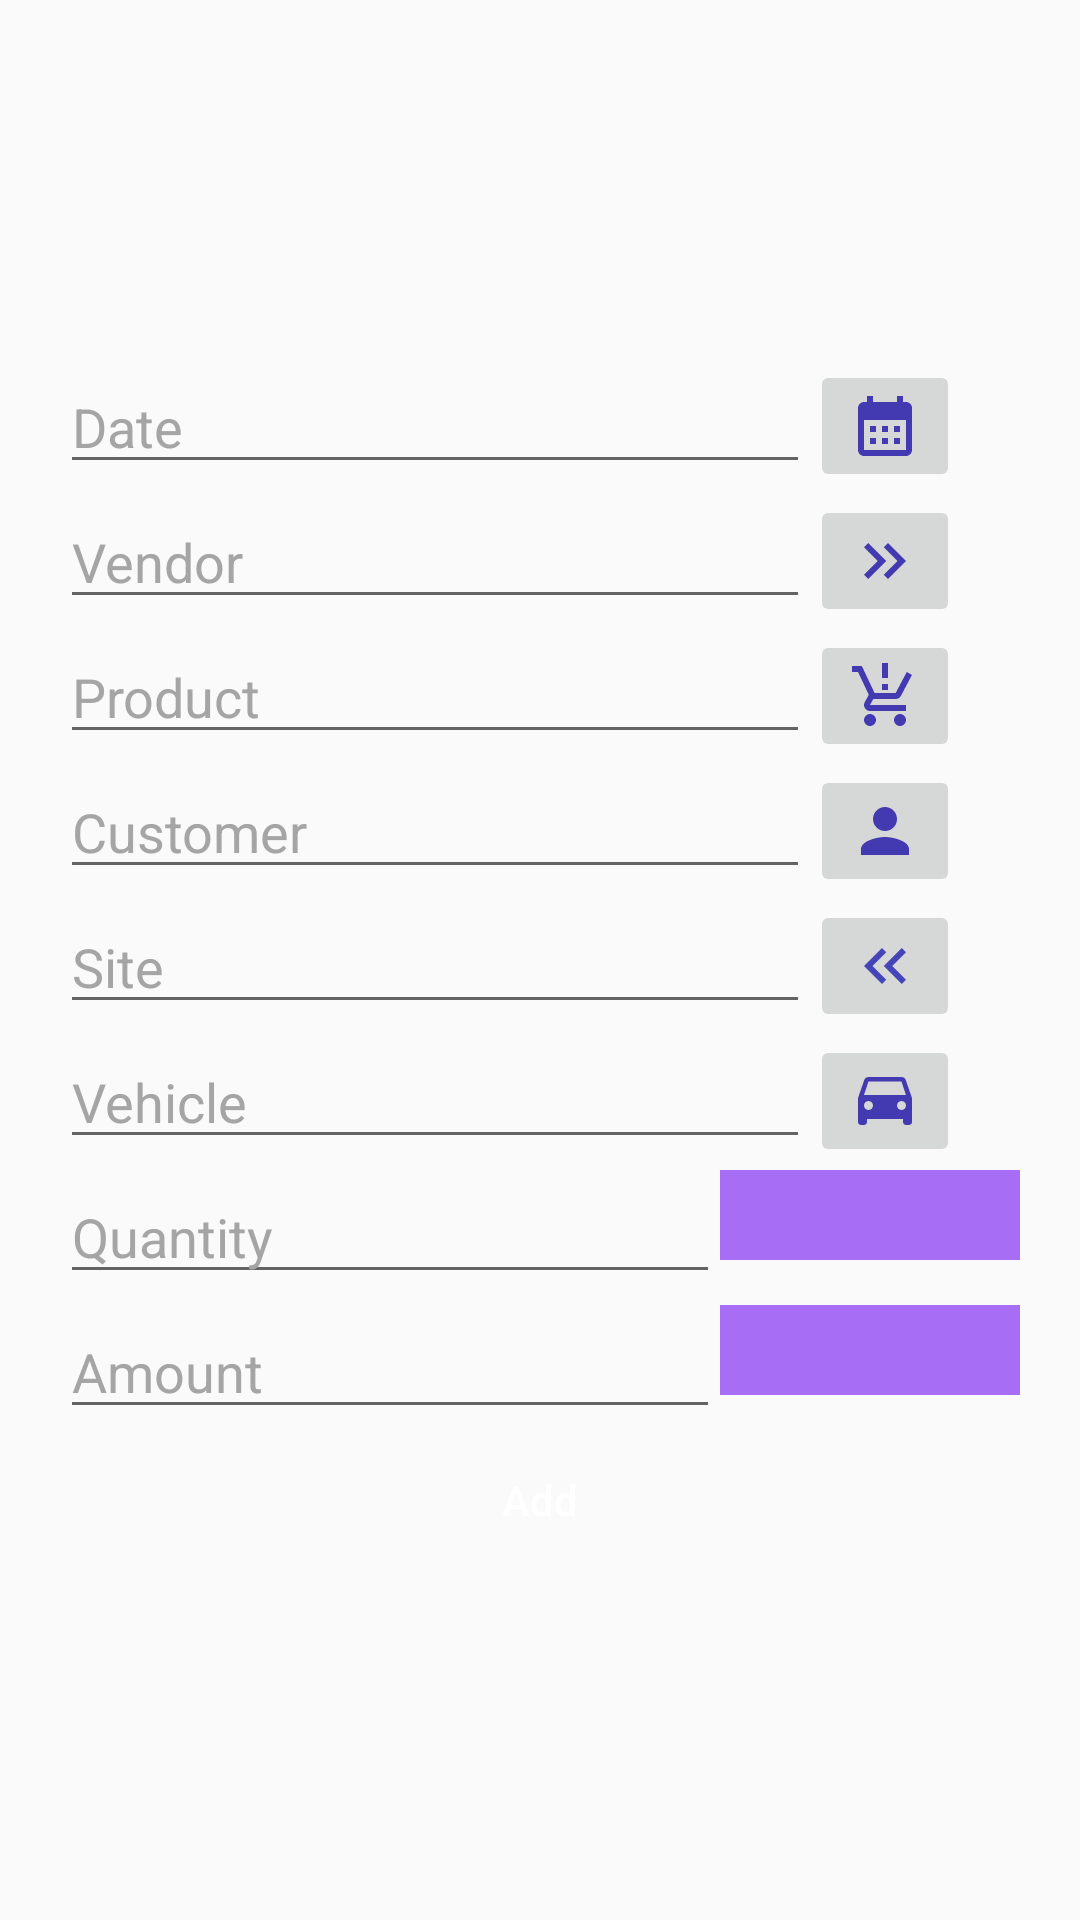

Point at icon controls on the screen. Image size 1080x1920, points as (x=x, y=y).
calendar month: (x=885, y=426)
keyboard double arrow left: (x=885, y=966)
keyboard double arrow right: (x=885, y=561)
person: (x=885, y=831)
time to leave: (x=885, y=1101)
